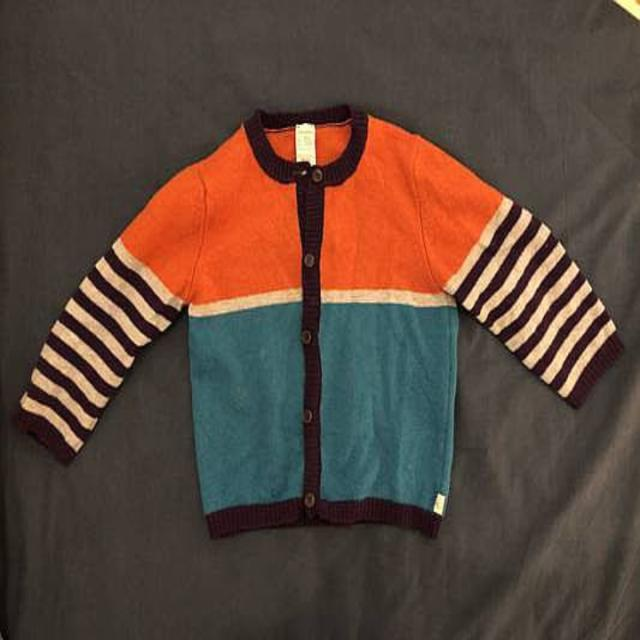SHIRT: (19, 94, 640, 546)
